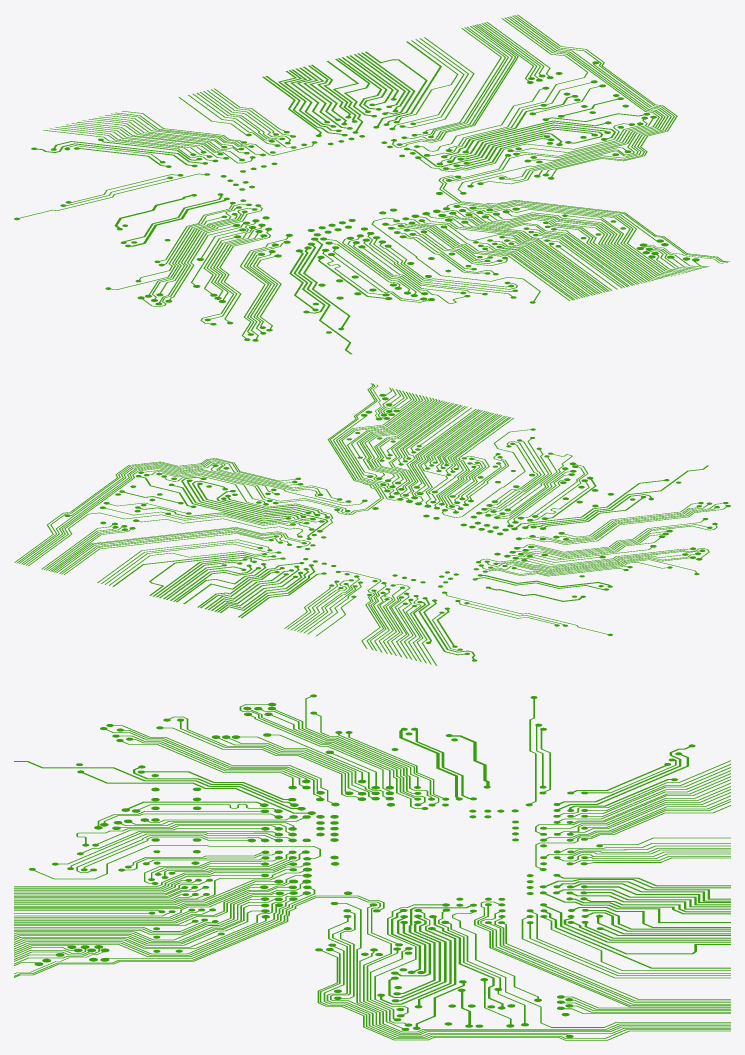
Rendered from mb-lines.fbx.
The picture shows the model from 3 angles, top to bottom: view 1: azimuth 30°, elevation 25°; view 2: azimuth 150°, elevation 25°; view 3: azimuth 270°, elevation 25°; orthographic projection. The views are drawn at different scales.
Parts seen in each view (by area): view 1: path5877-path.064, path5877-path.062, path5877-path.063, path5877-path.138; view 2: path5877-path.062, path5877-path.064, path5877-path.063, path5877-path.066; view 3: path5877-path.066, path5877-path.063, path5877-path.064, path5877-path.138, path5877-path.061, path5877-path.062, path5877-path.145, path5877-path.065, path5877-path.054.
Boxes of the visible parts, x1,y1,x2,y2 form: path5877-path.064: (477,15,668,184); path5877-path.062: (457,17,662,194); path5877-path.063: (498,16,665,180); path5877-path.138: (442,154,730,261); path5877-path.062: (23,467,367,564); path5877-path.064: (18,461,342,563); path5877-path.063: (21,463,322,564); path5877-path.066: (14,458,301,562); path5877-path.066: (315,948,730,1040); path5877-path.063: (330,927,730,1034); path5877-path.064: (326,915,730,1036); path5877-path.138: (14,897,402,977); path5877-path.061: (359,948,730,1032); path5877-path.062: (330,902,730,1033); path5877-path.145: (14,895,384,976); path5877-path.065: (320,948,730,1038); path5877-path.054: (474,901,730,1007).
Size of the model in its own units: 20.63 by 2.94e-06 by 18.06.
